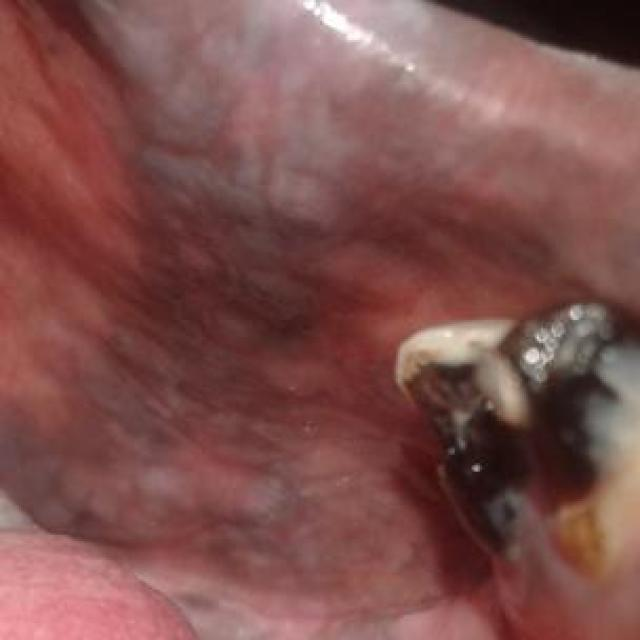leukoplakia-detection: (5, 0, 638, 635)
processing_area: (1, 0, 638, 638)
